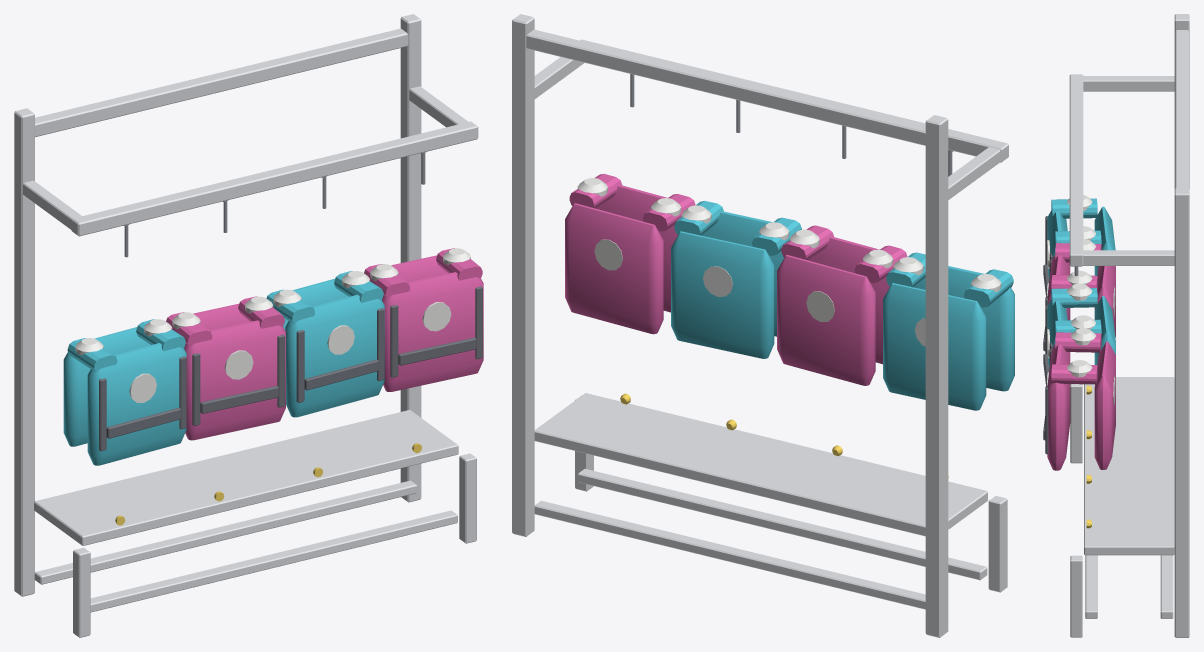
File: laser-tag-arena-and-activity-centre-vest-charging-rack-d3effeed__34492.glb
3 views of the same model, side by side, from view 1: azimuth 30°, elevation 25°; view 2: azimuth 150°, elevation 25°; view 3: azimuth 270°, elevation 25° (orthographic). The views are drawn at different scales.
Visible parts, largest first — view 1: vest-charging-rack; view 2: vest-charging-rack; view 3: vest-charging-rack.
Part boxes in pixels (x1=…): vest-charging-rack: x1=14, y1=14, x2=483, y2=637; vest-charging-rack: x1=512, y1=14, x2=1014, y2=637; vest-charging-rack: x1=1043, y1=14, x2=1189, y2=637.
Size of the model in its own units: 1.7 by 1.95 by 0.5817.
